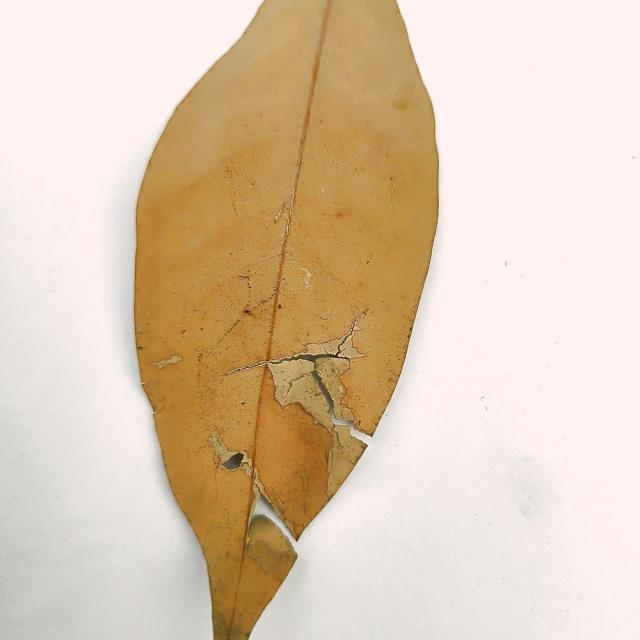Dry_Leaf-Lychee: (131, 0, 441, 639)
